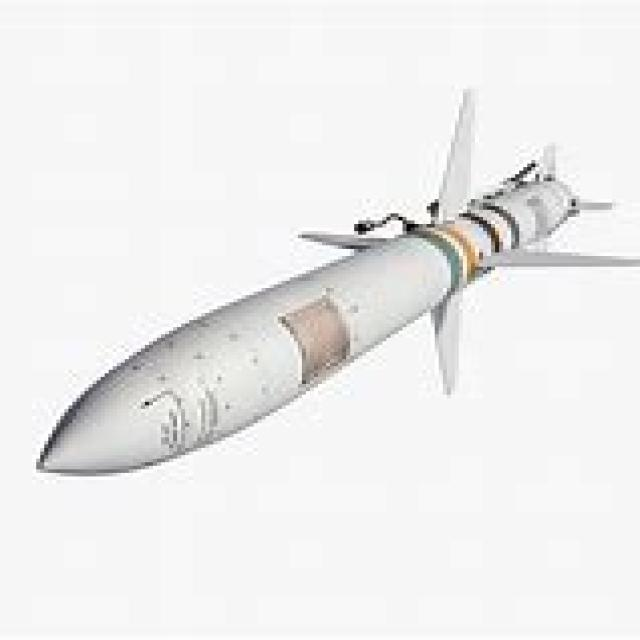missile: (38, 87, 628, 471)
